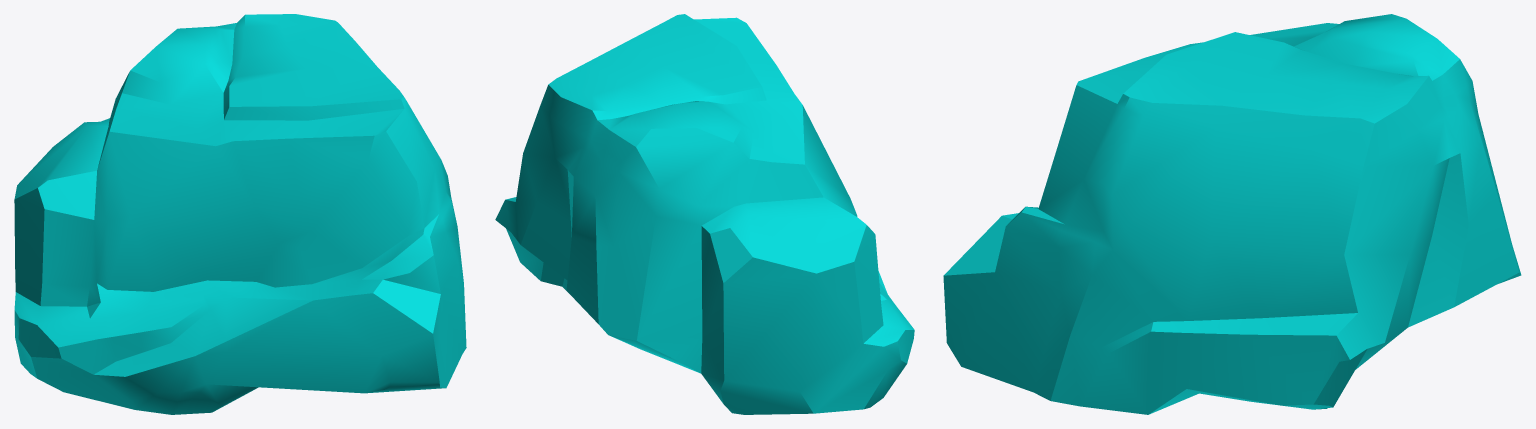
The model's file is rock_c.glb.
3 renders of one model, left to right at view 1: azimuth 30°, elevation 25°; view 2: azimuth 150°, elevation 25°; view 3: azimuth 270°, elevation 25°, orthographic. The views are drawn at different scales.
Visible parts, largest first — view 1: rock_c; view 2: rock_c; view 3: rock_c.
Part boxes in pixels (x1=…): rock_c: x1=14, y1=14, x2=466, y2=414; rock_c: x1=495, y1=14, x2=914, y2=414; rock_c: x1=943, y1=14, x2=1521, y2=414.
Size of the model in its own units: 3.42 by 2.32 by 3.48.
